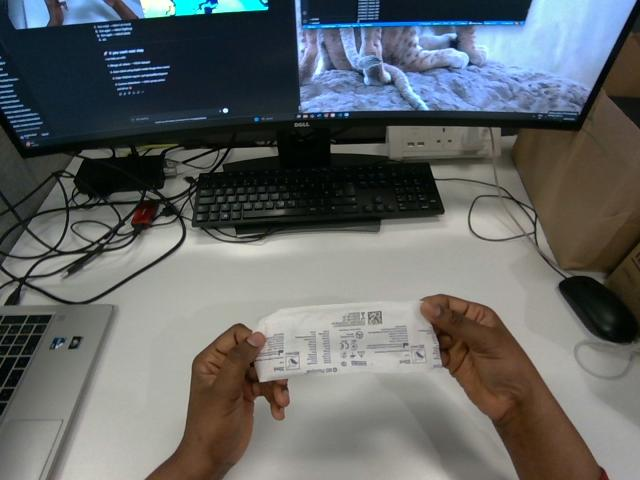syringe: (254, 301, 441, 381)
